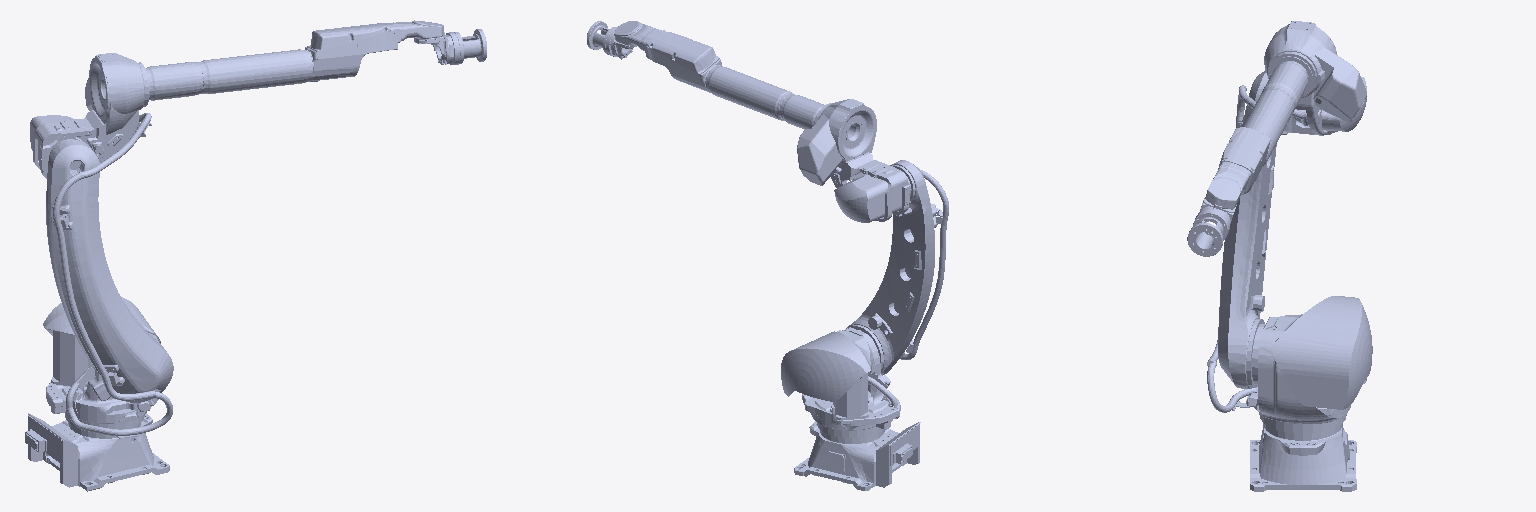
URDF robot description (robotas):
<?xml version="1.0" encoding="utf-8"?>
<!-- This URDF was automatically created by SolidWorks to URDF Exporter! Originally created by [author] ([email redacted]) 
     Commit Version: 1.6.0-4-g7f85cfe  Build Version: 1.6.7995.38578
     For more information, please see http://wiki.ros.org/sw_urdf_exporter -->
<robot
  name="robotas">
  <link
    name="base_link">
    <inertial>
      <origin
        xyz="-0.023367 0.0037595 -0.10596"
        rpy="0 0 0" />
      <mass
        value="5.2142" />
      <inertia
        ixx="0.059853"
        ixy="0.0010769"
        ixz="0.0043685"
        iyy="0.081727"
        iyz="0.00026357"
        izz="0.11202" />
    </inertial>
    <visual>
      <origin
        xyz="0 0 0"
        rpy="0 0 0" />
      <geometry>
        <mesh
          filename="package://robotas/meshes/base_link.STL" />
      </geometry>
      <material
        name="">
        <color
          rgba="0.79216 0.81961 0.93333 1" />
      </material>
    </visual>
    <collision>
      <origin
        xyz="0 0 0"
        rpy="0 0 0" />
      <geometry>
        <mesh
          filename="package://robotas/meshes/base_link.STL" />
      </geometry>
    </collision>
  </link>
  <link
    name="link_1">
    <inertial>
      <origin
        xyz="0.016371 0.020212 0.126"
        rpy="0 0 0" />
      <mass
        value="18.964" />
      <inertia
        ixx="0.34924"
        ixy="0.026181"
        ixz="-0.023004"
        iyy="0.33087"
        iyz="-0.036255"
        izz="0.30546" />
    </inertial>
    <visual>
      <origin
        xyz="0 0 0"
        rpy="0 0 0" />
      <geometry>
        <mesh
          filename="package://robotas/meshes/link_1.STL" />
      </geometry>
      <material
        name="">
        <color
          rgba="0.79216 0.81961 0.93333 1" />
      </material>
    </visual>
    <collision>
      <origin
        xyz="0 0 0"
        rpy="0 0 0" />
      <geometry>
        <mesh
          filename="package://robotas/meshes/link_1.STL" />
      </geometry>
    </collision>
  </link>
  <joint
    name="joint0"
    type="revolute">
    <origin
      xyz="0 0 0"
      rpy="0 0 0" />
    <parent
      link="base_link" />
    <child
      link="link_1" />
    <axis
      xyz="0 0 -1" />
    <limit
      lower="-3.1416"
      upper="3.1416"
      effort="100"
      velocity="2" />
  </joint>
  <link
    name="link_2">
    <inertial>
      <origin
        xyz="-0.15656 -0.042794 0.32804"
        rpy="0 0 0" />
      <mass
        value="20.743" />
      <inertia
        ixx="1.7673"
        ixy="0.037048"
        ixz="0.49181"
        iyy="1.9581"
        iyz="-0.15565"
        izz="0.28276" />
    </inertial>
    <visual>
      <origin
        xyz="0 0 0"
        rpy="0 0 0" />
      <geometry>
        <mesh
          filename="package://robotas/meshes/link_2.STL" />
      </geometry>
      <material
        name="">
        <color
          rgba="0.79216 0.81961 0.93333 1" />
      </material>
    </visual>
    <collision>
      <origin
        xyz="0 0 0"
        rpy="0 0 0" />
      <geometry>
        <mesh
          filename="package://robotas/meshes/link_2.STL" />
      </geometry>
    </collision>
  </link>
  <joint
    name="joint1"
    type="revolute">
    <origin
      xyz="0.048078 -0.12344 0.21973"
      rpy="0 0 0" />
    <parent
      link="link_1" />
    <child
      link="link_2" />
    <axis
      xyz="-0.22838 -0.97357 0" />
    <limit
      lower="-1.5708"
      upper="1.5708"
      effort="100"
      velocity="2" />
  </joint>
  <link
    name="link_3">
    <inertial>
      <origin
        xyz="0.16403 0.076707 0.11166"
        rpy="0 0 0" />
      <mass
        value="13.451" />
      <inertia
        ixx="0.21926"
        ixy="0.0032332"
        ixz="-0.093659"
        iyy="0.2784"
        iyz="0.020311"
        izz="0.21793" />
    </inertial>
    <visual>
      <origin
        xyz="0 0 0"
        rpy="0 0 0" />
      <geometry>
        <mesh
          filename="package://robotas/meshes/link_3.STL" />
      </geometry>
      <material
        name="">
        <color
          rgba="0.79216 0.81961 0.93333 1" />
      </material>
    </visual>
    <collision>
      <origin
        xyz="0 0 0"
        rpy="0 0 0" />
      <geometry>
        <mesh
          filename="package://robotas/meshes/link_3.STL" />
      </geometry>
    </collision>
  </link>
  <joint
    name="joint2"
    type="revolute">
    <origin
      xyz="-0.21883 0.076652 0.80774"
      rpy="0 0 0" />
    <parent
      link="link_2" />
    <child
      link="link_3" />
    <axis
      xyz="-0.22838 -0.97357 0" />
    <limit
      lower="-3.1416"
      upper="3.1416"
      effort="100"
      velocity="2" />
  </joint>
  <link
    name="link_4">
    <inertial>
      <origin
        xyz="0.48898 -0.10868 0.015545"
        rpy="0 0 0" />
      <mass
        value="11.257" />
      <inertia
        ixx="0.068312"
        ixy="0.18244"
        ixz="-0.06822"
        iyy="0.90358"
        iyz="0.013423"
        izz="0.93336" />
    </inertial>
    <visual>
      <origin
        xyz="0 0 0"
        rpy="0 0 0" />
      <geometry>
        <mesh
          filename="package://robotas/meshes/link_4.STL" />
      </geometry>
      <material
        name="">
        <color
          rgba="0.79216 0.81961 0.93333 1" />
      </material>
    </visual>
    <collision>
      <origin
        xyz="0 0 0"
        rpy="0 0 0" />
      <geometry>
        <mesh
          filename="package://robotas/meshes/link_4.STL" />
      </geometry>
    </collision>
  </link>
  <joint
    name="joint3"
    type="revolute">
    <origin
      xyz="0.30761 0.0095485 0.21111"
      rpy="0 0 0" />
    <parent
      link="link_3" />
    <child
      link="link_4" />
    <axis
      xyz="0.97349 -0.22836 -0.013158" />
    <limit
      lower="-1.5708"
      upper="1.5708"
      effort="100"
      velocity="2" />
  </joint>
  <link
    name="link_5">
    <inertial>
      <origin
        xyz="0.021696 -0.014484 -0.034944"
        rpy="0 0 0" />
      <mass
        value="0.36782" />
      <inertia
        ixx="0.00070285"
        ixy="5.6091E-05"
        ixz="0.00018674"
        iyy="0.00068677"
        iyz="-4.4138E-05"
        izz="0.00068567" />
    </inertial>
    <visual>
      <origin
        xyz="0 0 0"
        rpy="0 0 0" />
      <geometry>
        <mesh
          filename="package://robotas/meshes/link_5.STL" />
      </geometry>
      <material
        name="">
        <color
          rgba="0.79216 0.81961 0.93333 1" />
      </material>
    </visual>
    <collision>
      <origin
        xyz="0 0 0"
        rpy="0 0 0" />
      <geometry>
        <mesh
          filename="package://robotas/meshes/link_5.STL" />
      </geometry>
    </collision>
  </link>
  <joint
    name="joint4"
    type="revolute">
    <origin
      xyz="1.0212 -0.22313 0.041903"
      rpy="0 0 0" />
    <parent
      link="link_4" />
    <child
      link="link_5" />
    <axis
      xyz="-0.075349 -0.26583 -0.96107" />
    <limit
      lower="-3.1416"
      upper="3.1416"
      effort="100"
      velocity="2" />
  </joint>
  <link
    name="link_6">
    <inertial>
      <origin
        xyz="-0.0088492 0.001802 0.00019536"
        rpy="0 0 0" />
      <mass
        value="0.15001" />
      <inertia
        ixx="0.00030556"
        ixy="-2.9517E-05"
        ixz="-3.2336E-06"
        iyy="0.00016664"
        iyz="4.9348E-07"
        izz="0.00016061" />
    </inertial>
    <visual>
      <origin
        xyz="0 0 0"
        rpy="0 0 0" />
      <geometry>
        <mesh
          filename="package://robotas/meshes/link_6.STL" />
      </geometry>
      <material
        name="">
        <color
          rgba="0.79216 0.81961 0.93333 1" />
      </material>
    </visual>
    <collision>
      <origin
        xyz="0 0 0"
        rpy="0 0 0" />
      <geometry>
        <mesh
          filename="package://robotas/meshes/link_6.STL" />
      </geometry>
    </collision>
  </link>
  <joint
    name="joint5"
    type="fixed">
    <origin
      xyz="0.08239 -0.032861 -0.056887"
      rpy="0 0 0" />
    <parent
      link="link_5" />
    <child
      link="link_6" />
    <axis
      xyz="0 0 0" />
  </joint>
  <link
    name="link_7">
    <inertial>
      <origin
        xyz="0.047638 -0.010107 -0.00376"
        rpy="0 0 0" />
      <mass
        value="0.34805" />
      <inertia
        ixx="0.00062726"
        ixy="2.6989E-05"
        ixz="5.3511E-06"
        iyy="0.00075016"
        iyz="3.1984E-06"
        izz="0.00078311" />
    </inertial>
    <visual>
      <origin
        xyz="0 0 0"
        rpy="0 0 0" />
      <geometry>
        <mesh
          filename="package://robotas/meshes/link_7.STL" />
      </geometry>
      <material
        name="">
        <color
          rgba="0.79216 0.81961 0.93333 1" />
      </material>
    </visual>
    <collision>
      <origin
        xyz="0 0 0"
        rpy="0 0 0" />
      <geometry>
        <mesh
          filename="package://robotas/meshes/link_7.STL" />
      </geometry>
    </collision>
  </link>
  <joint
    name="joint6"
    type="fixed">
    <origin
      xyz="0.0014695 -0.00029924 -3.2441E-05"
      rpy="0 0 0" />
    <parent
      link="link_6" />
    <child
      link="link_7" />
    <axis
      xyz="0 0 0" />
  </joint>
  <link
    name="link_8">
    <inertial>
      <origin
        xyz="0.074346 -0.011933 0.022108"
        rpy="0 0 0" />
      <mass
        value="0.43567" />
      <inertia
        ixx="0.0004968"
        ixy="-7.8813E-07"
        ixz="-0.00011796"
        iyy="0.00057414"
        iyz="6.4768E-06"
        izz="0.0004441" />
    </inertial>
    <visual>
      <origin
        xyz="0 0 0"
        rpy="0 0 0" />
      <geometry>
        <mesh
          filename="package://robotas/meshes/link_8.STL" />
      </geometry>
      <material
        name="">
        <color
          rgba="0.6 0.6 0.6 1" />
      </material>
    </visual>
    <collision>
      <origin
        xyz="0 0 0"
        rpy="0 0 0" />
      <geometry>
        <mesh
          filename="package://robotas/meshes/link_8.STL" />
      </geometry>
    </collision>
  </link>
  <joint
    name="joint7"
    type="fixed">
    <origin
      xyz="0.096986 -0.01975 -0.0021411"
      rpy="0 0 0" />
    <parent
      link="link_7" />
    <child
      link="link_8" />
    <axis
      xyz="0 0 0" />
  </joint>
  <link
    name="end_link">
    <inertial>
      <origin
        xyz="0.031592 -0.0039015 0.01808"
        rpy="0 0 0" />
      <mass
        value="0.46379" />
      <inertia
        ixx="0.00070224"
        ixy="2.6501E-05"
        ixz="8.6964E-06"
        iyy="0.00081599"
        iyz="-3.8191E-05"
        izz="0.00056244" />
    </inertial>
    <visual>
      <origin
        xyz="0 0 0"
        rpy="0 0 0" />
      <geometry>
        <mesh
          filename="package://robotas/meshes/end_link.STL" />
      </geometry>
      <material
        name="">
        <color
          rgba="0.2 0.2 0.2 1" />
      </material>
    </visual>
    <collision>
      <origin
        xyz="0 0 0"
        rpy="0 0 0" />
      <geometry>
        <mesh
          filename="package://robotas/meshes/end_link.STL" />
      </geometry>
    </collision>
  </link>
  <joint
    name="end_joint"
    type="fixed">
    <origin
      xyz="0.24645 -0.025016 0.17975"
      rpy="0 0 0" />
    <parent
      link="link_8" />
    <child
      link="end_link" />
    <axis
      xyz="0 0 0" />
  </joint>
</robot>

--- What the picture shows (computed from the rendered views, not written in the file) ---
3 views of the same robot in one strip: view 1: azimuth 30°, elevation 25°; view 2: azimuth 150°, elevation 25°; view 3: azimuth 270°, elevation 25° (orthographic).
Model robotas with 10 links and 9 joints (5 revolute, 4 fixed), rooted at base_link, posed all joints at 0.
Links seen in each view (by area): view 1: link_2, link_4, link_3, link_1, base_link, link_7, link_5; view 2: link_2, link_1, link_3, link_4, base_link, link_7; view 3: link_1, link_2, link_3, link_4, base_link, link_7.
Boxes of the visible links, box(x1,y1,x2,y2) form: link_2: box(46, 139, 173, 402); link_4: box(146, 20, 444, 100); link_3: box(30, 53, 151, 178); link_1: box(43, 297, 172, 438); base_link: box(25, 413, 169, 491); link_7: box(454, 29, 486, 64); link_5: box(414, 35, 453, 64); link_2: box(846, 160, 948, 375); link_1: box(781, 327, 900, 443); link_3: box(797, 99, 922, 222); link_4: box(614, 21, 824, 129); base_link: box(794, 421, 920, 490); link_7: box(587, 21, 616, 54); link_1: box(1207, 296, 1372, 440); link_2: box(1207, 70, 1288, 388); link_3: box(1239, 21, 1366, 135); link_4: box(1205, 61, 1308, 209); base_link: box(1250, 425, 1356, 491); link_7: box(1187, 211, 1228, 256).
Bounding box of the posed robot: 1.67 × 0.5911 × 1.56 m (x, y, z).
8 mesh visuals loaded from 10 distinct referenced files (8 binary STL); not drawn: 2 (reference not matched to a file when rendering).